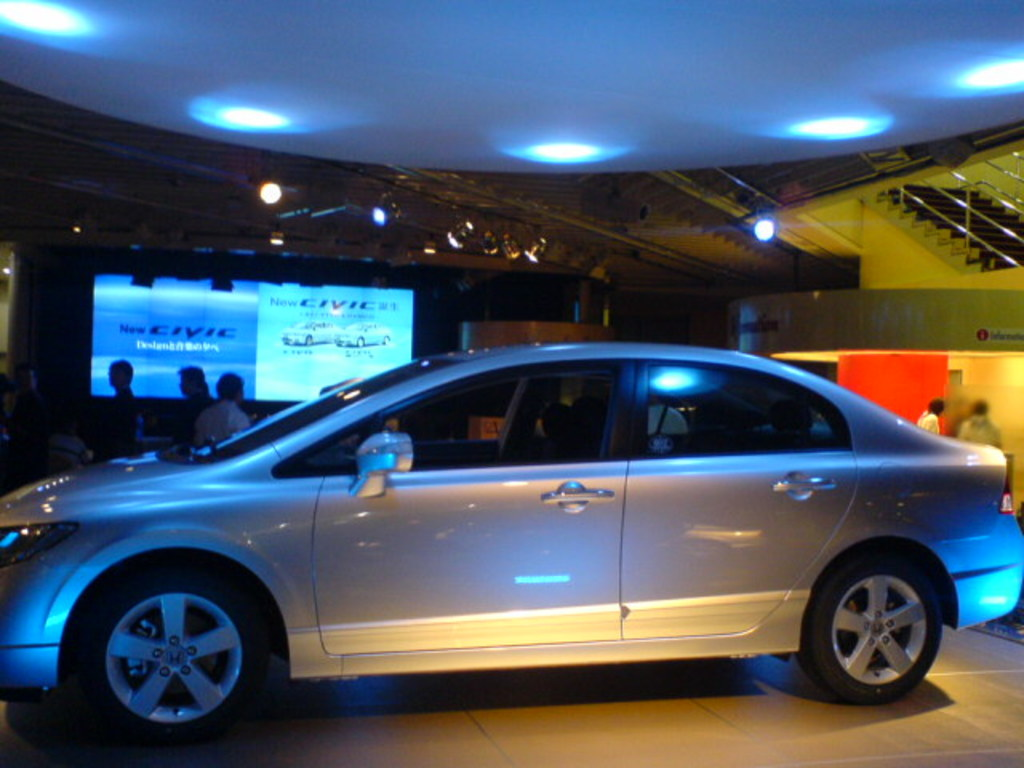Car: (0, 340, 1024, 745)
